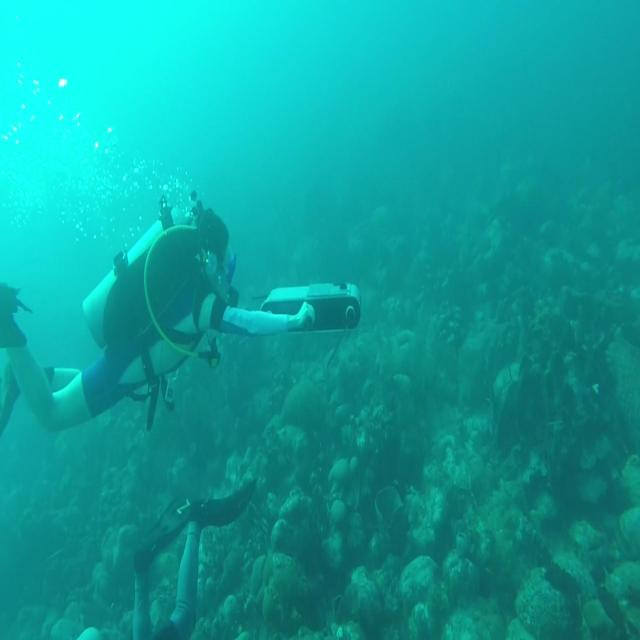human: (0, 198, 316, 438), (131, 474, 258, 638)
